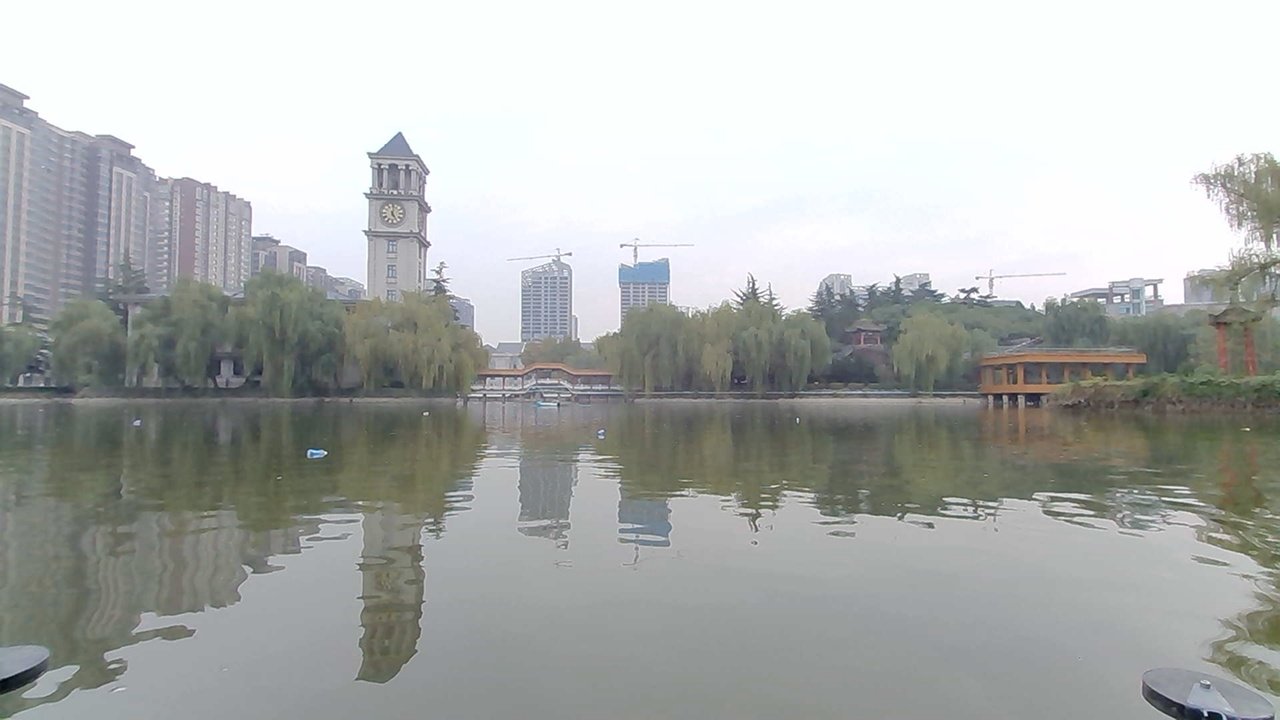bottle: (581, 420, 615, 447), (128, 413, 166, 437), (789, 404, 819, 430), (299, 446, 336, 467), (417, 401, 446, 423)
